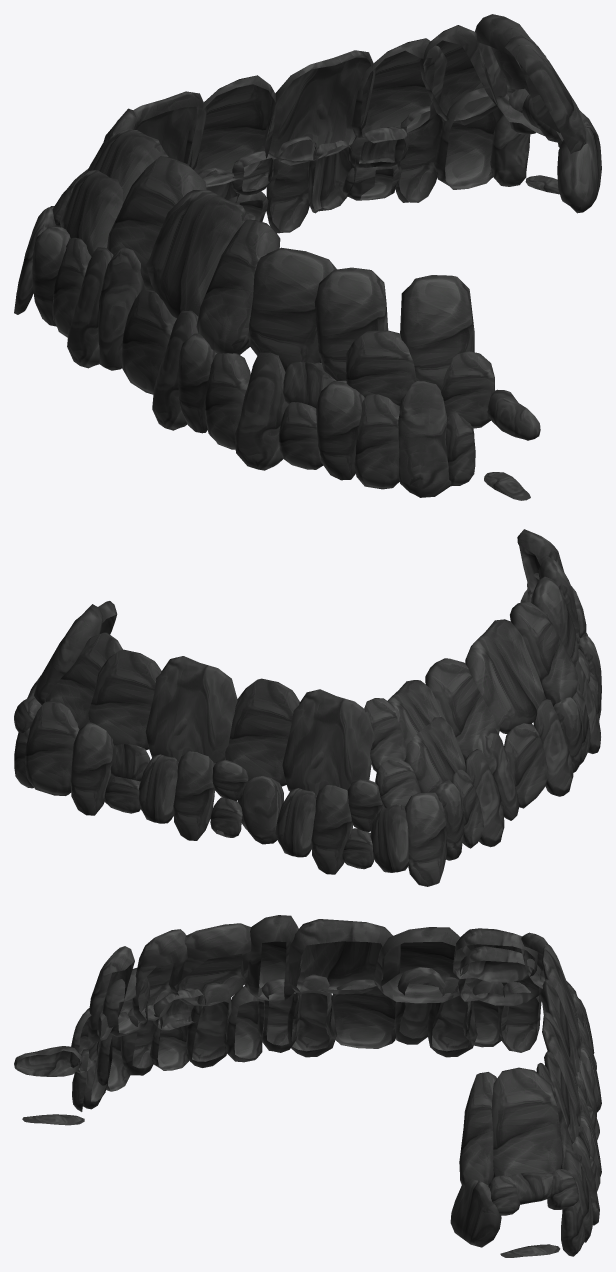
Rendered from RCIMainShape1.dae.
The picture shows the model from 3 angles, top to bottom: view 1: azimuth 30°, elevation 25°; view 2: azimuth 150°, elevation 25°; view 3: azimuth 270°, elevation 25°; orthographic projection. The views are drawn at different scales.
Parts seen in each view (by area): view 1: RCIMain1; view 2: RCIMain1; view 3: RCIMain1.
Boxes of the visible parts, bbox=[...] form: RCIMain1: bbox=[14, 14, 601, 500]; RCIMain1: bbox=[14, 529, 601, 886]; RCIMain1: bbox=[14, 915, 601, 1257].
Bounding box in the file's own units: 96.98 × 35.28 × 109.
